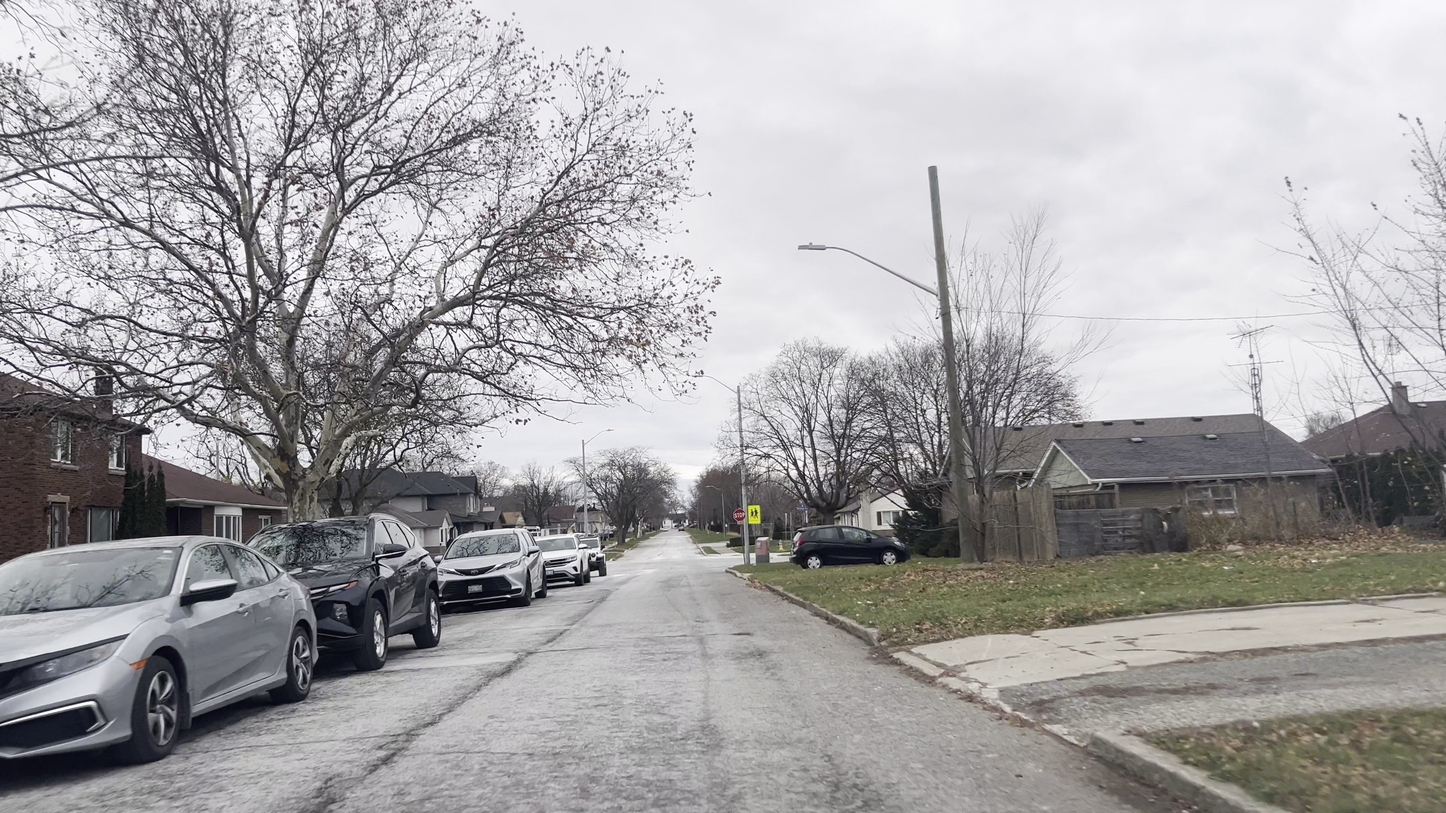cracks: (367, 706, 449, 772), (286, 743, 364, 810), (491, 644, 547, 691)
